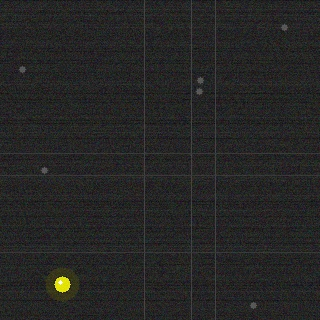yellow_warning: (52, 274, 72, 294)
